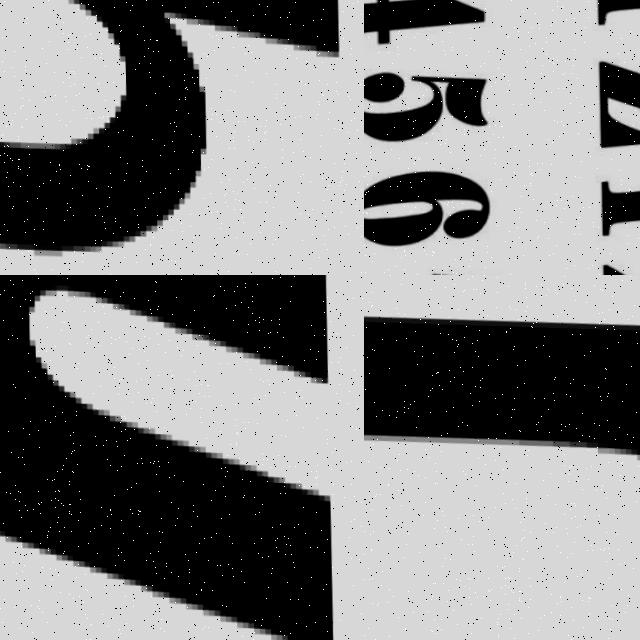1: (586, 149, 640, 242)
4: (364, 0, 495, 52)
5: (364, 41, 508, 154)
6: (364, 143, 503, 262)
R: (364, 282, 640, 634)
U: (0, 275, 351, 640)
